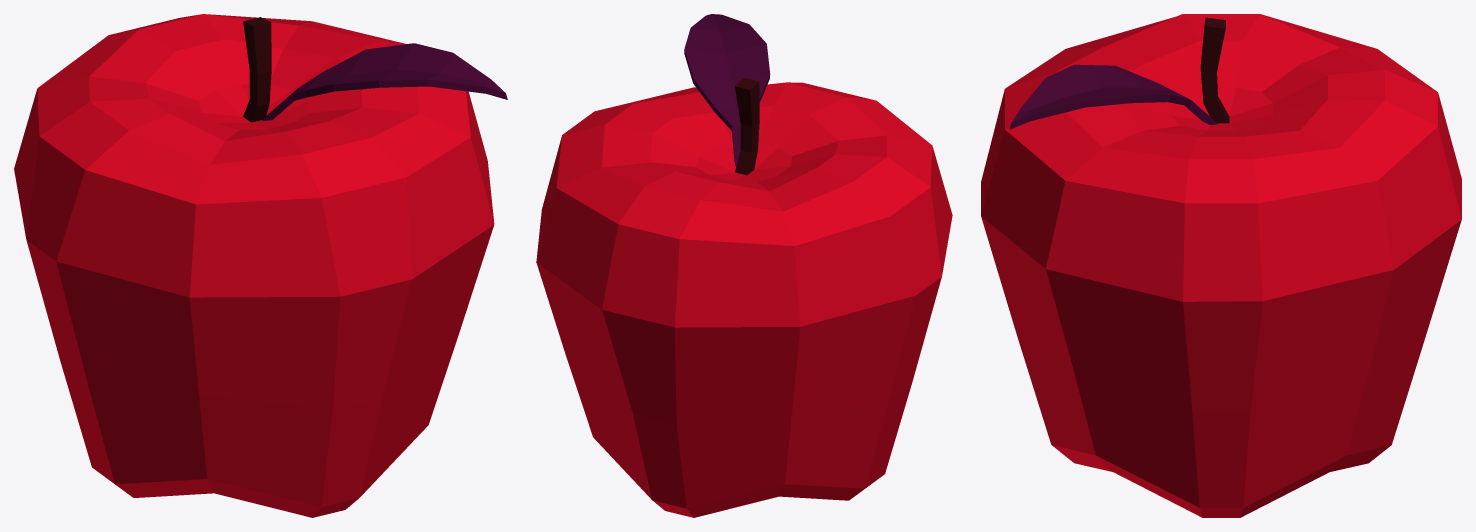
File: Apple_01.fbx
3 renders of one model, left to right at view 1: azimuth 30°, elevation 25°; view 2: azimuth 150°, elevation 25°; view 3: azimuth 270°, elevation 25°, orthographic. The views are drawn at different scales.
Parts seen in each view (by area): view 1: Apple_01; view 2: Apple_01; view 3: Apple_01.
Boxes of the visible parts, x1,y1,x2,y2 form: Apple_01: (14,14,507,517); Apple_01: (536,14,952,517); Apple_01: (981,14,1461,517).
Bounding box in the file's own units: 5.22 × 5.15 × 5.18.
